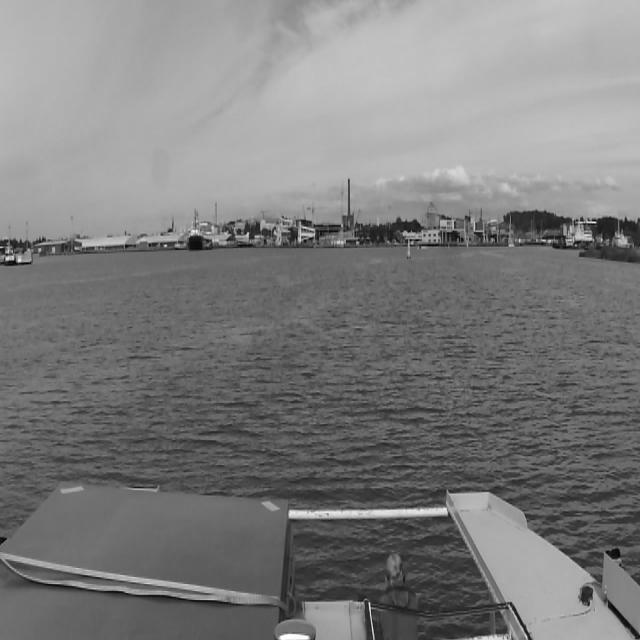buoy: (406, 238, 412, 262)
ship: (176, 218, 232, 242), (554, 214, 596, 244), (589, 230, 635, 251), (188, 207, 204, 253)
